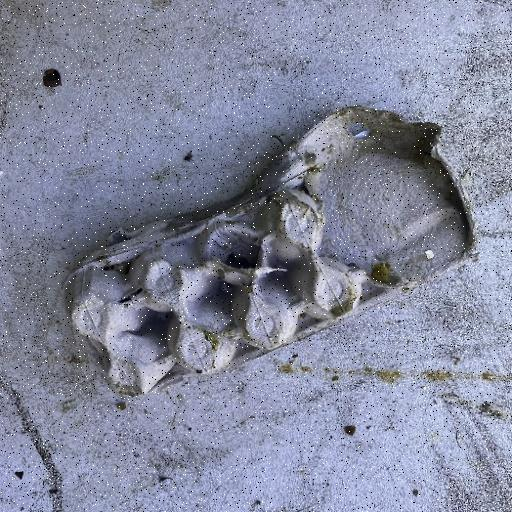Cardboard: (60, 104, 474, 398)
